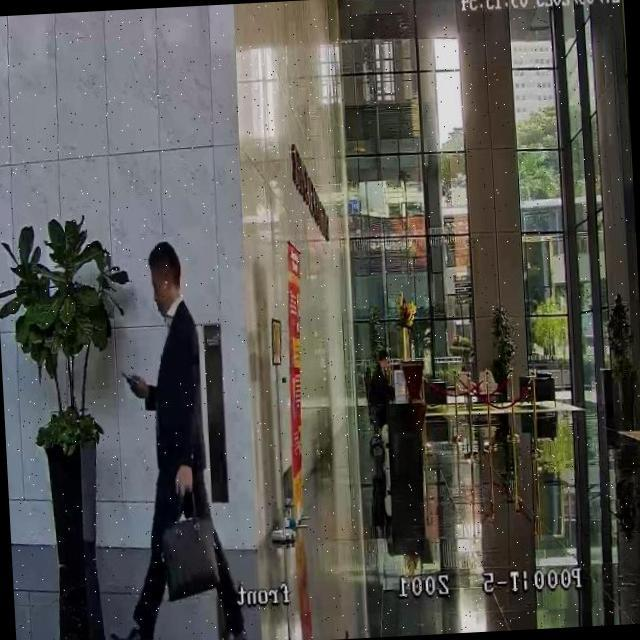person: (90, 236, 249, 640), (366, 350, 396, 414)
